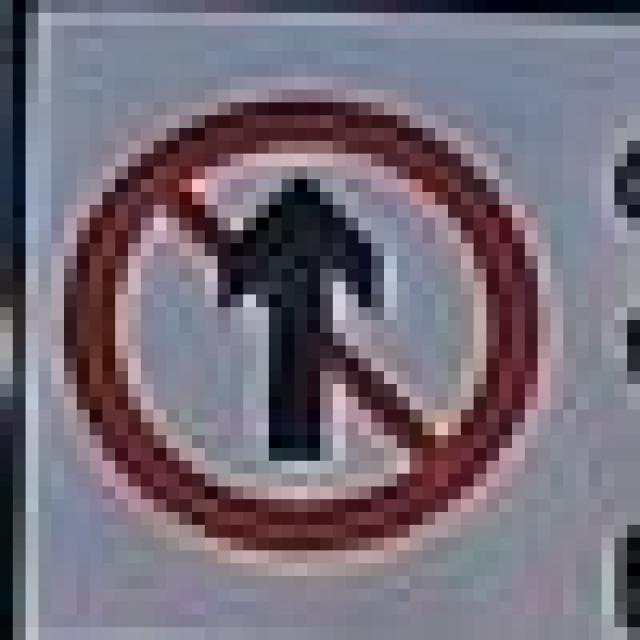straight prohibited: (53, 85, 550, 571)
